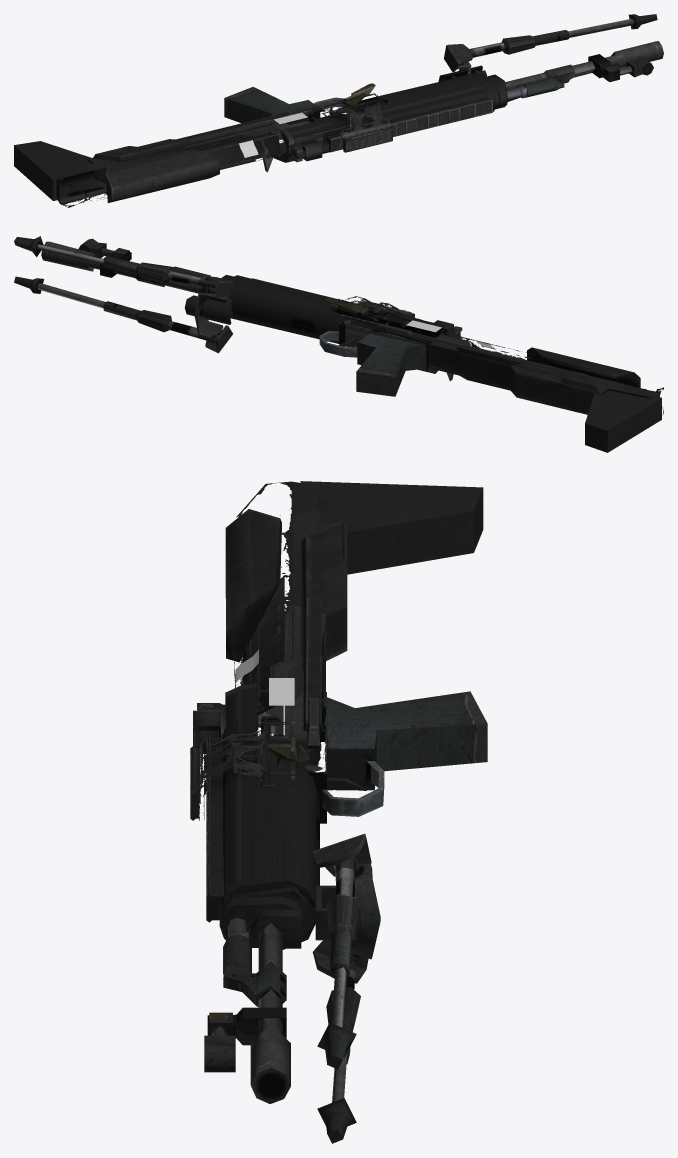
File: t6_wpn_sniper_svu_world_LOD0.obj
3 views of the same model, one above another, from view 1: azimuth 30°, elevation 25°; view 2: azimuth 150°, elevation 25°; view 3: azimuth 270°, elevation 25° (orthographic). The views are drawn at different scales.
Visible parts, largest first — view 1: mtl_t6_wpn_sniper_svu, mtl_t6_wpn_sniper_svu_camo2, mtl_t6_wpn_sniper_svu_camo3; view 2: mtl_t6_wpn_sniper_svu, mtl_t6_wpn_sniper_svu_camo2, mtl_t6_wpn_sniper_svu_camo3; view 3: mtl_t6_wpn_sniper_svu, mtl_t6_wpn_sniper_svu_camo2, mtl_t6_wpn_sniper_svu_camo3.
Boxes of the visible parts, left/top/right/bottom form: mtl_t6_wpn_sniper_svu: left=56, top=14, right=663, bottom=207; mtl_t6_wpn_sniper_svu_camo2: left=14, top=87, right=320, bottom=202; mtl_t6_wpn_sniper_svu_camo3: left=57, top=35, right=619, bottom=178; mtl_t6_wpn_sniper_svu: left=14, top=236, right=663, bottom=415; mtl_t6_wpn_sniper_svu_camo2: left=356, top=333, right=661, bottom=452; mtl_t6_wpn_sniper_svu_camo3: left=113, top=248, right=658, bottom=397; mtl_t6_wpn_sniper_svu: left=193, top=481, right=380, bottom=1143; mtl_t6_wpn_sniper_svu_camo2: left=225, top=481, right=487, bottom=790; mtl_t6_wpn_sniper_svu_camo3: left=190, top=481, right=384, bottom=1031.
Size of the model in its own units: 99.88 by 10.78 by 21.05.
